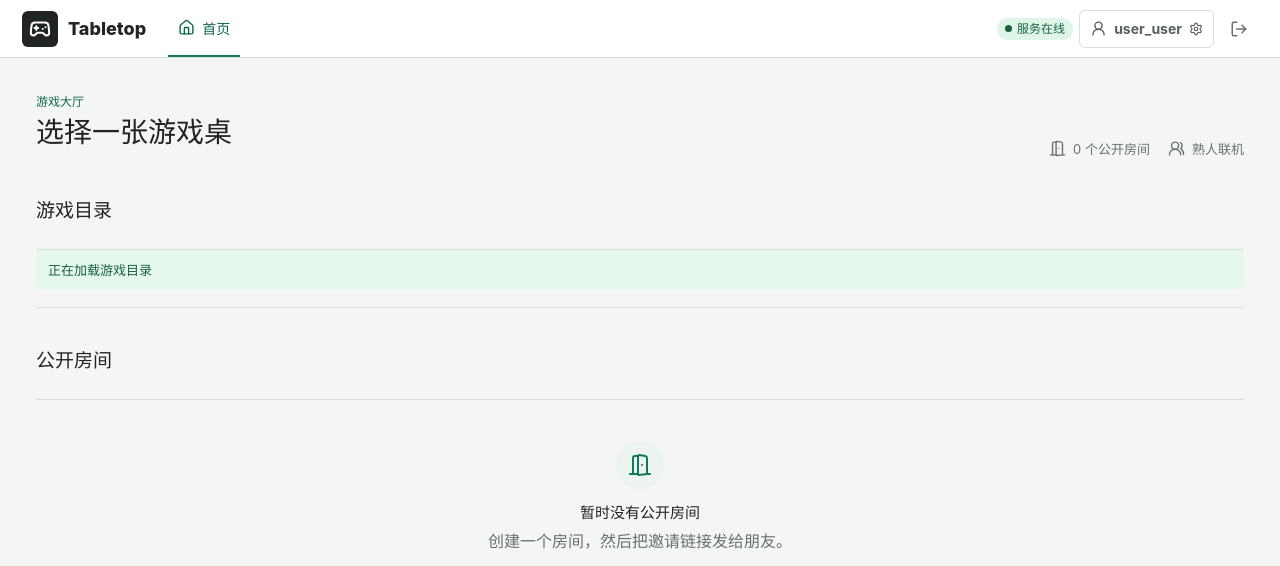
Test: web routes › keeps the authenticated screen when logout is not confirmed
Check: the heading "选择一张游戏桌" is shown, box [36, 116, 232, 150]
What coordinates should you click on to do the following:
click the button named "退出登录"
I would click on:
 (1239, 28)
Its box is [1220, 10, 1258, 48].
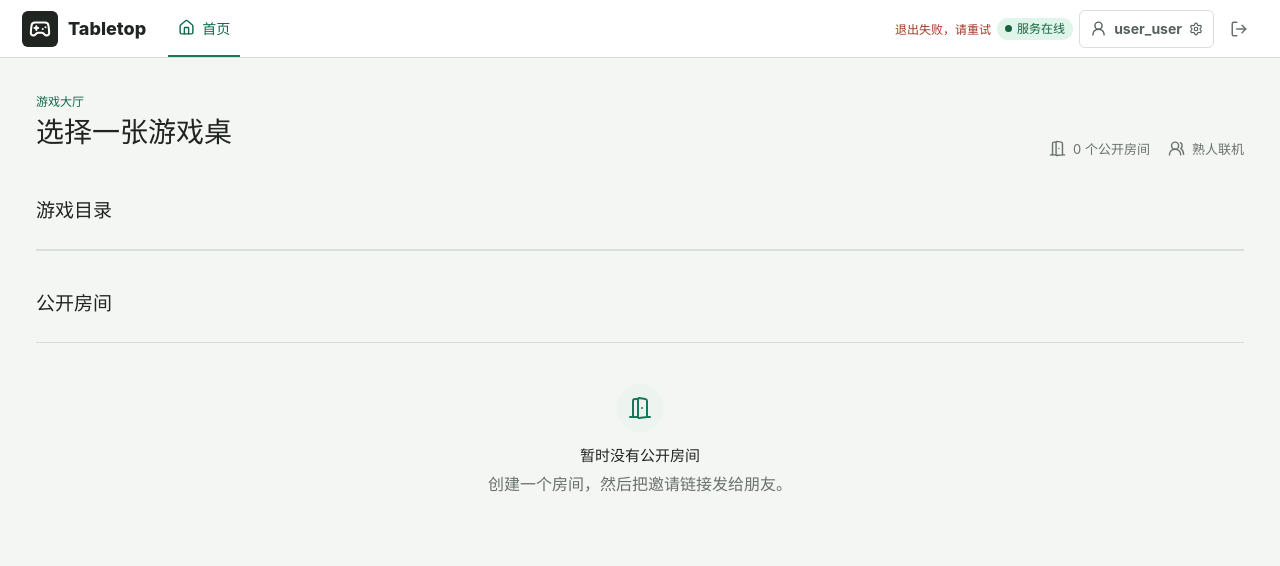
Check: the heading "选择一张游戏桌" is shown, box [36, 116, 232, 150]
Check: the message reads "退出失败，请重试", box [895, 22, 991, 37]
